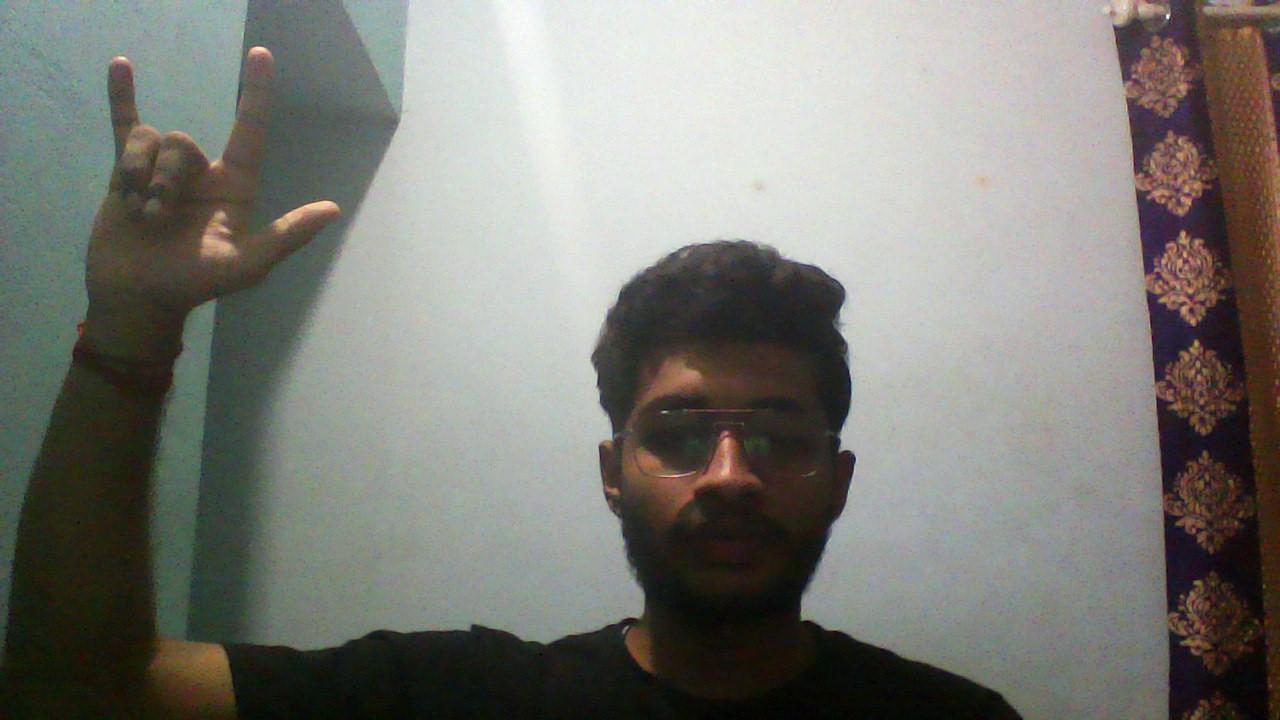I love you: (72, 43, 351, 307)
